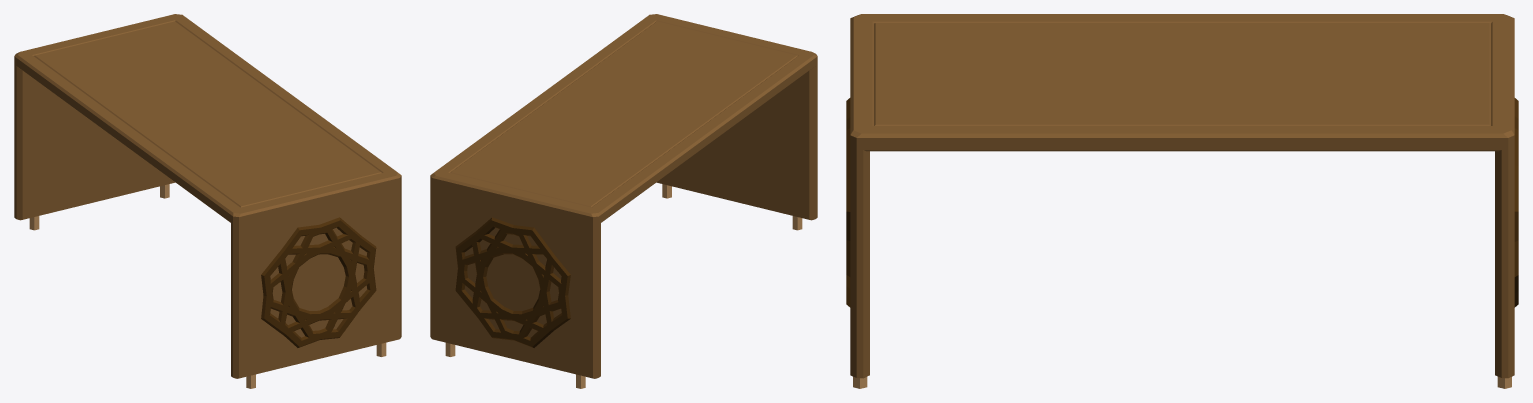
File: MesaPublicoEscenario2.fbx
3 views of the same model, side by side, from view 1: azimuth 30°, elevation 25°; view 2: azimuth 150°, elevation 25°; view 3: azimuth 270°, elevation 25° (orthographic). The views are drawn at different scales.
Parts seen in each view (by area): view 1: Box002; view 2: Box002; view 3: Box002.
Boxes of the visible parts, <box> form: Box002: <box>14,14,401,388</box>; Box002: <box>430,14,817,388</box>; Box002: <box>846,14,1518,388</box>.
Size of the model in its own units: 88.32 by 88.94 by 205.
